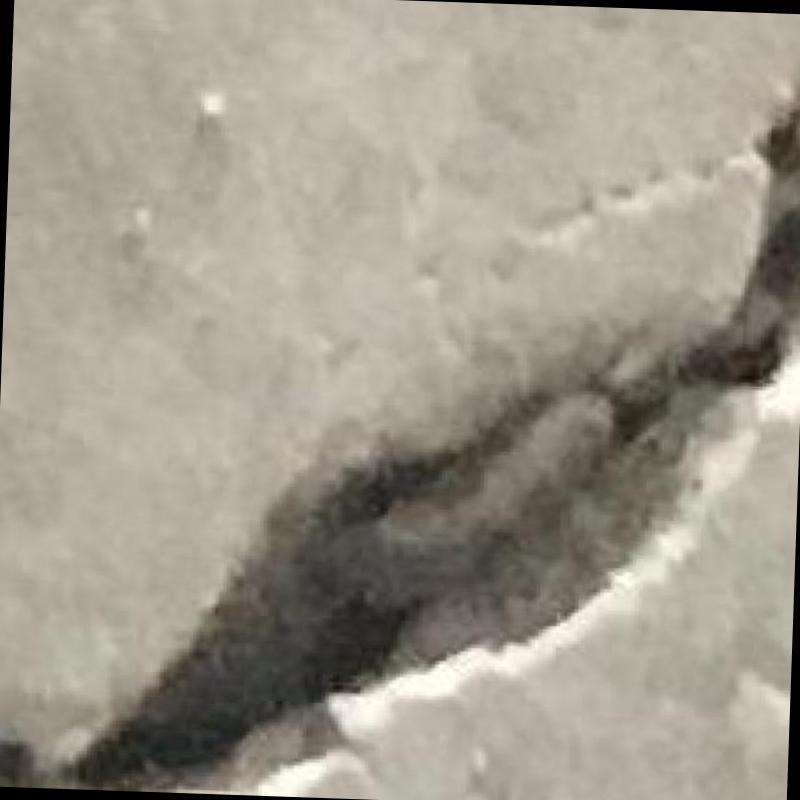pothole: (58, 94, 800, 790)
